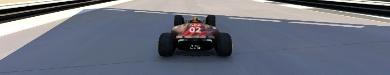Car: (157, 14, 232, 56)
